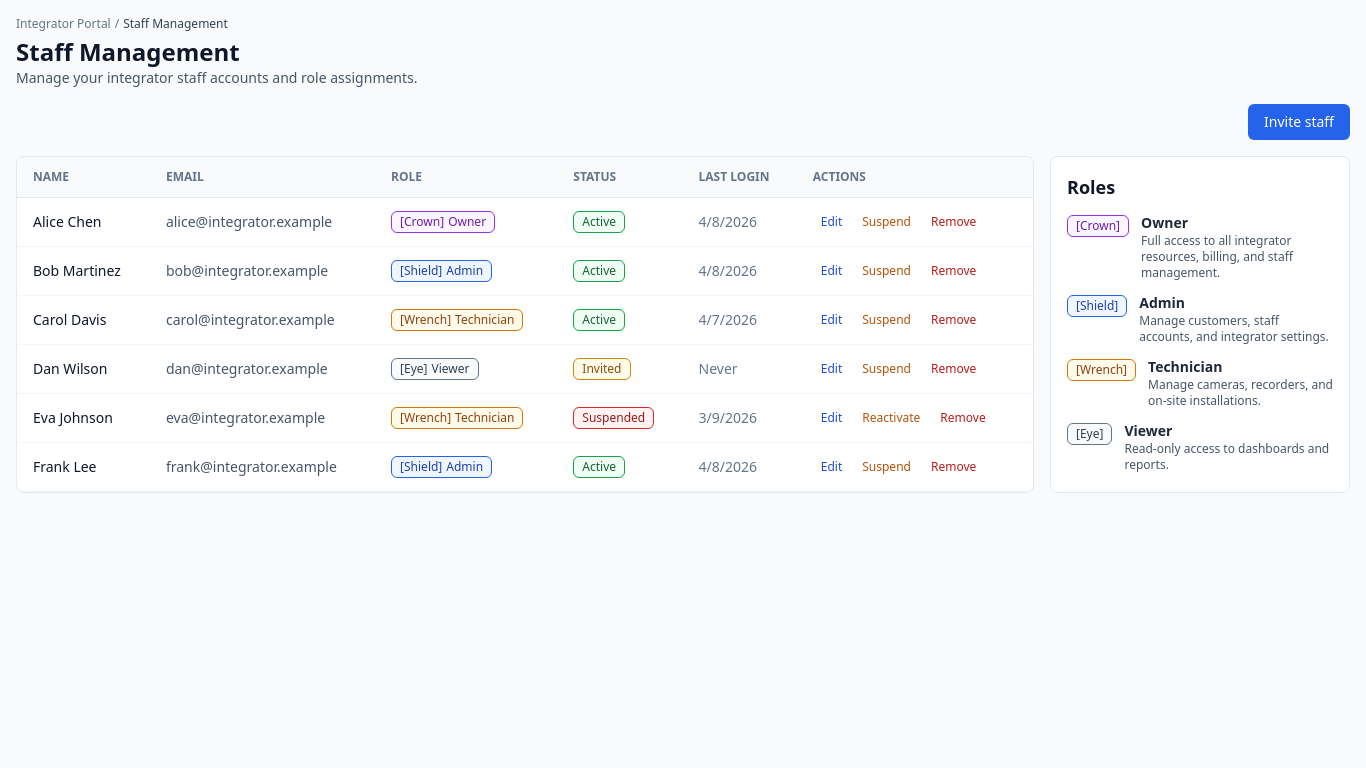
Scenario: StaffPage › suspend/reactivate: opens confirmation dialog and completes action
Expected: the table with test id "staff-table" is shown, top-left (17, 157), bottom-right (1033, 492)
# Click suspend on active staff (Carol Davis - staff-003)
Click the button with test id "suspend-staff-003" at [887, 320], box top-left (854, 308), bottom-right (919, 332)
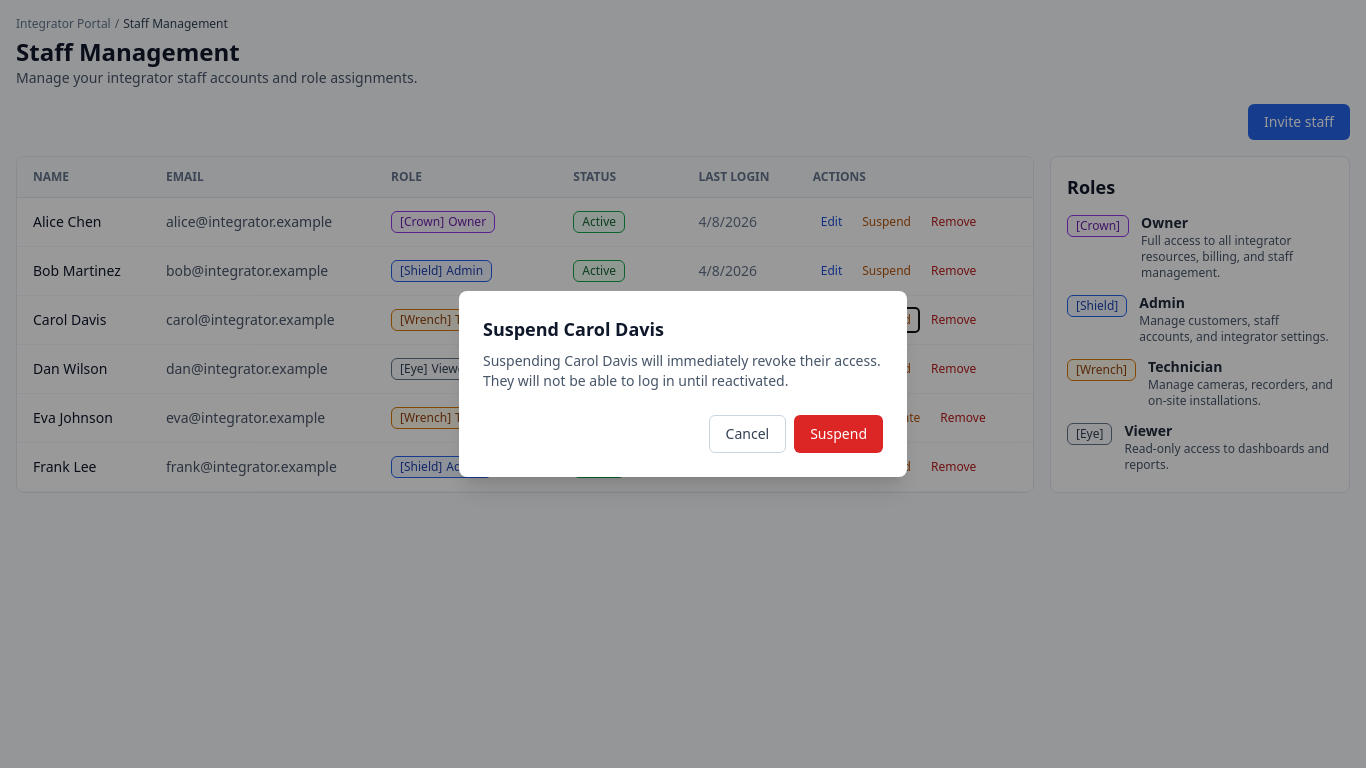
Result: the dialog with test id "suspend-dialog" is shown
Result: the text with test id "suspend-impact" shows "Carol Davis" at top-left (483, 351), bottom-right (881, 390)
# Confirm suspend
Click the button with test id "suspend-confirm" at [839, 434], box top-left (794, 415), bottom-right (883, 453)
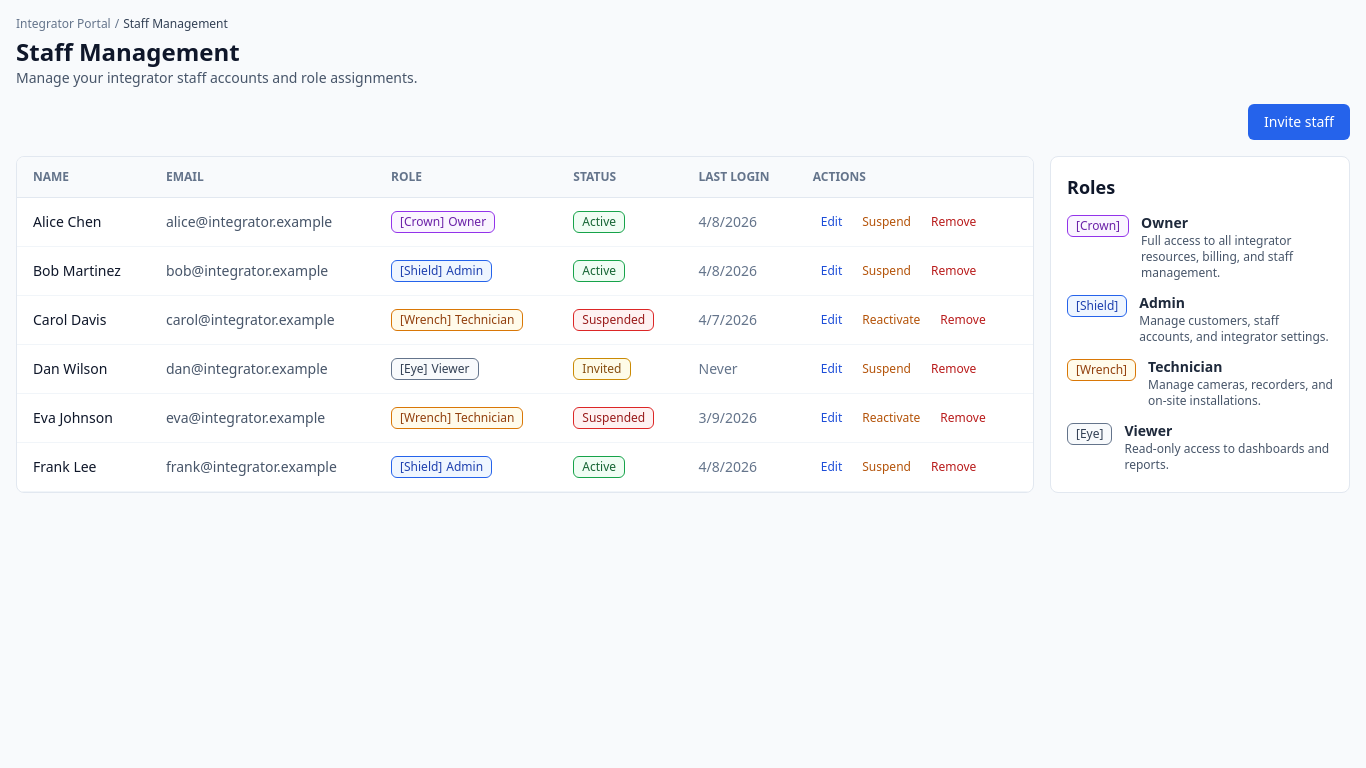
Result: the dialog with test id "suspend-dialog" is gone
# Click reactivate on suspended staff (Eva Johnson - staff-005)
Click the button with test id "suspend-staff-005" at [891, 418], box top-left (854, 406), bottom-right (928, 430)
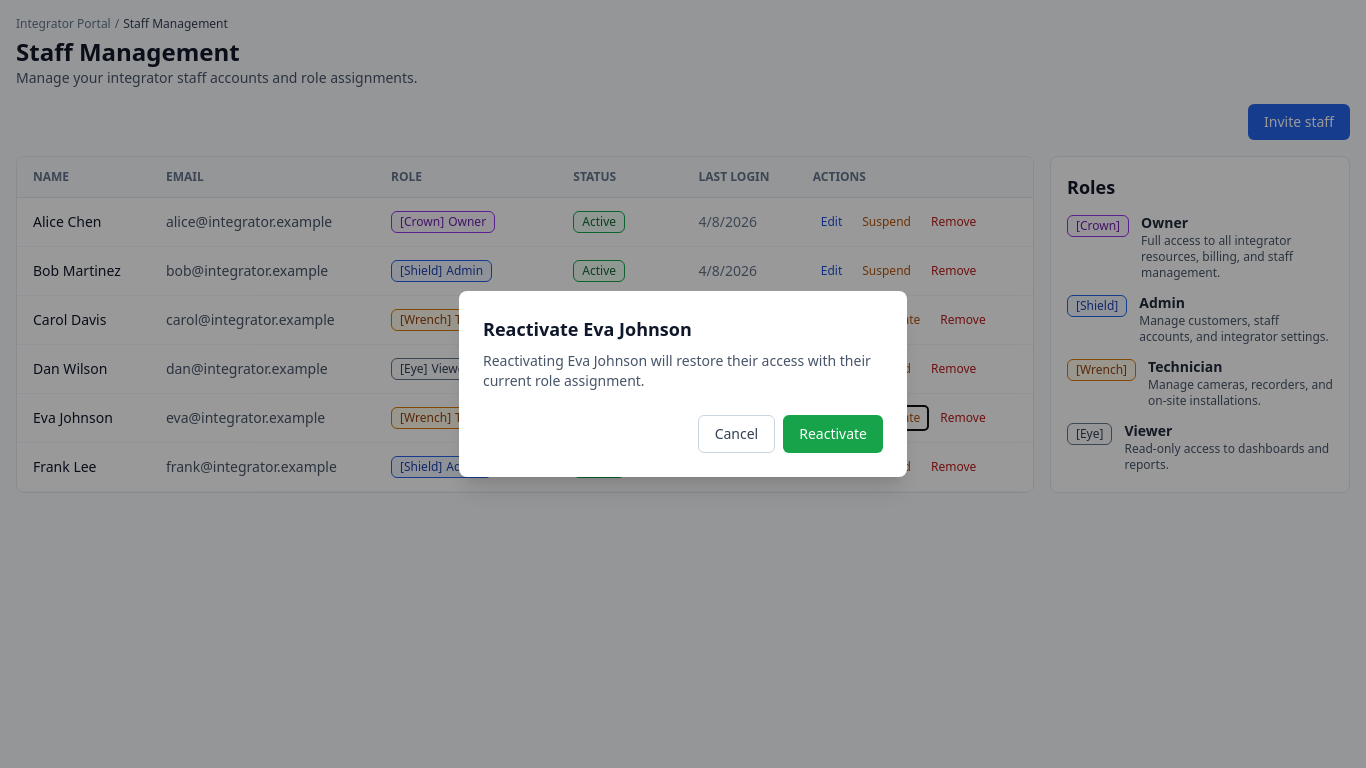
Result: the dialog with test id "suspend-dialog" is shown
# Confirm reactivate
Click the button with test id "suspend-confirm" at [833, 434], box top-left (783, 415), bottom-right (883, 453)
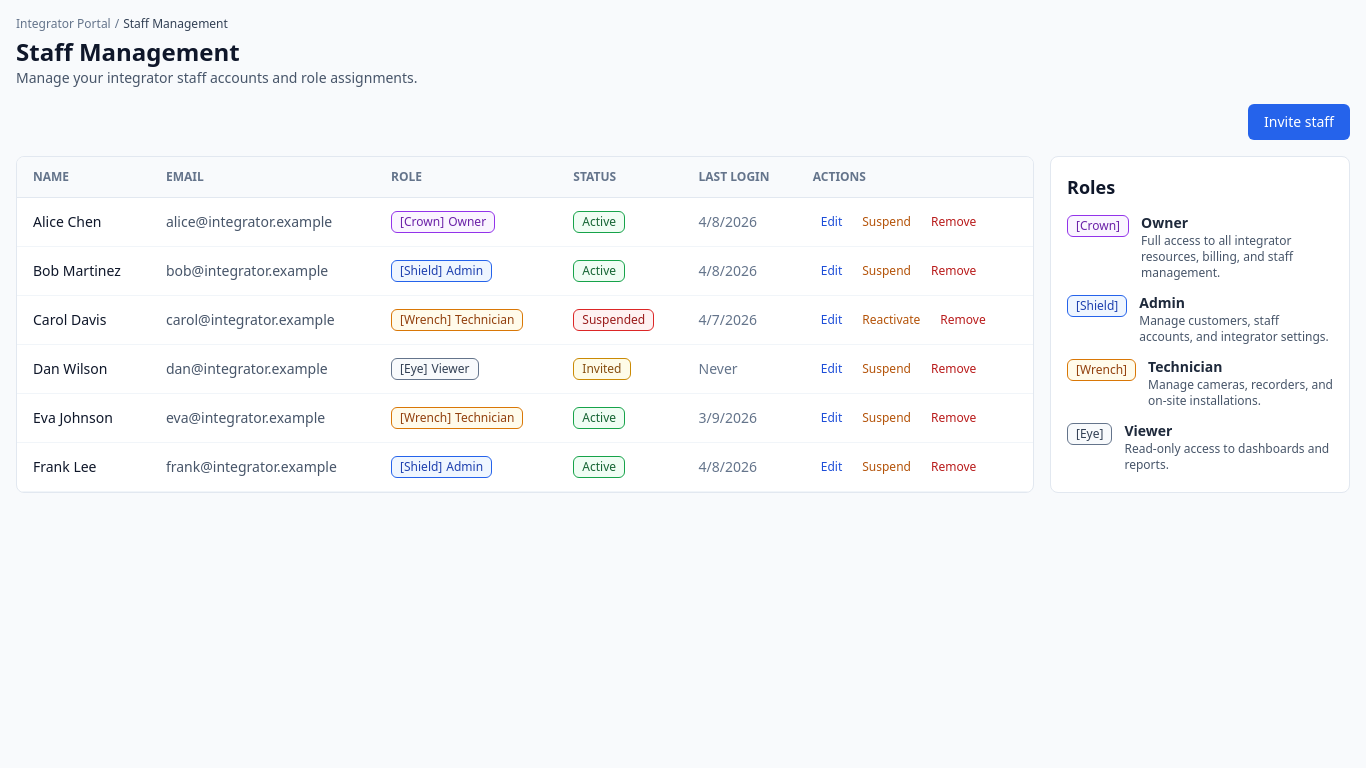
Result: the dialog with test id "suspend-dialog" is gone
